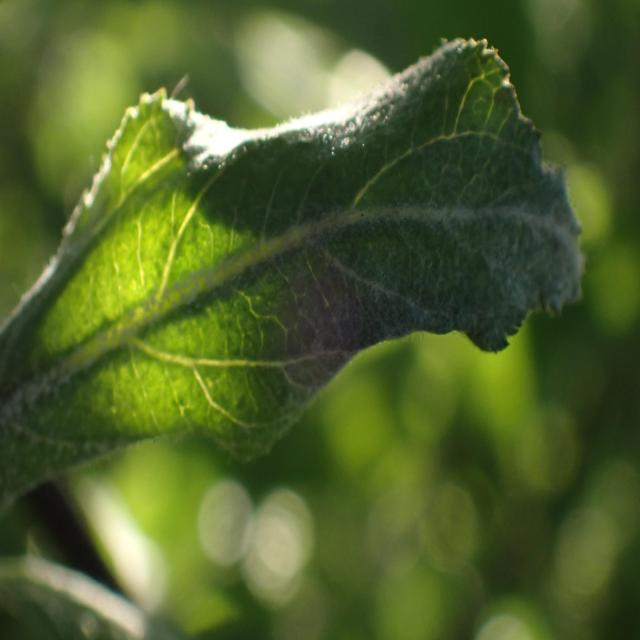Powdery_mildew: (10, 51, 597, 505)
